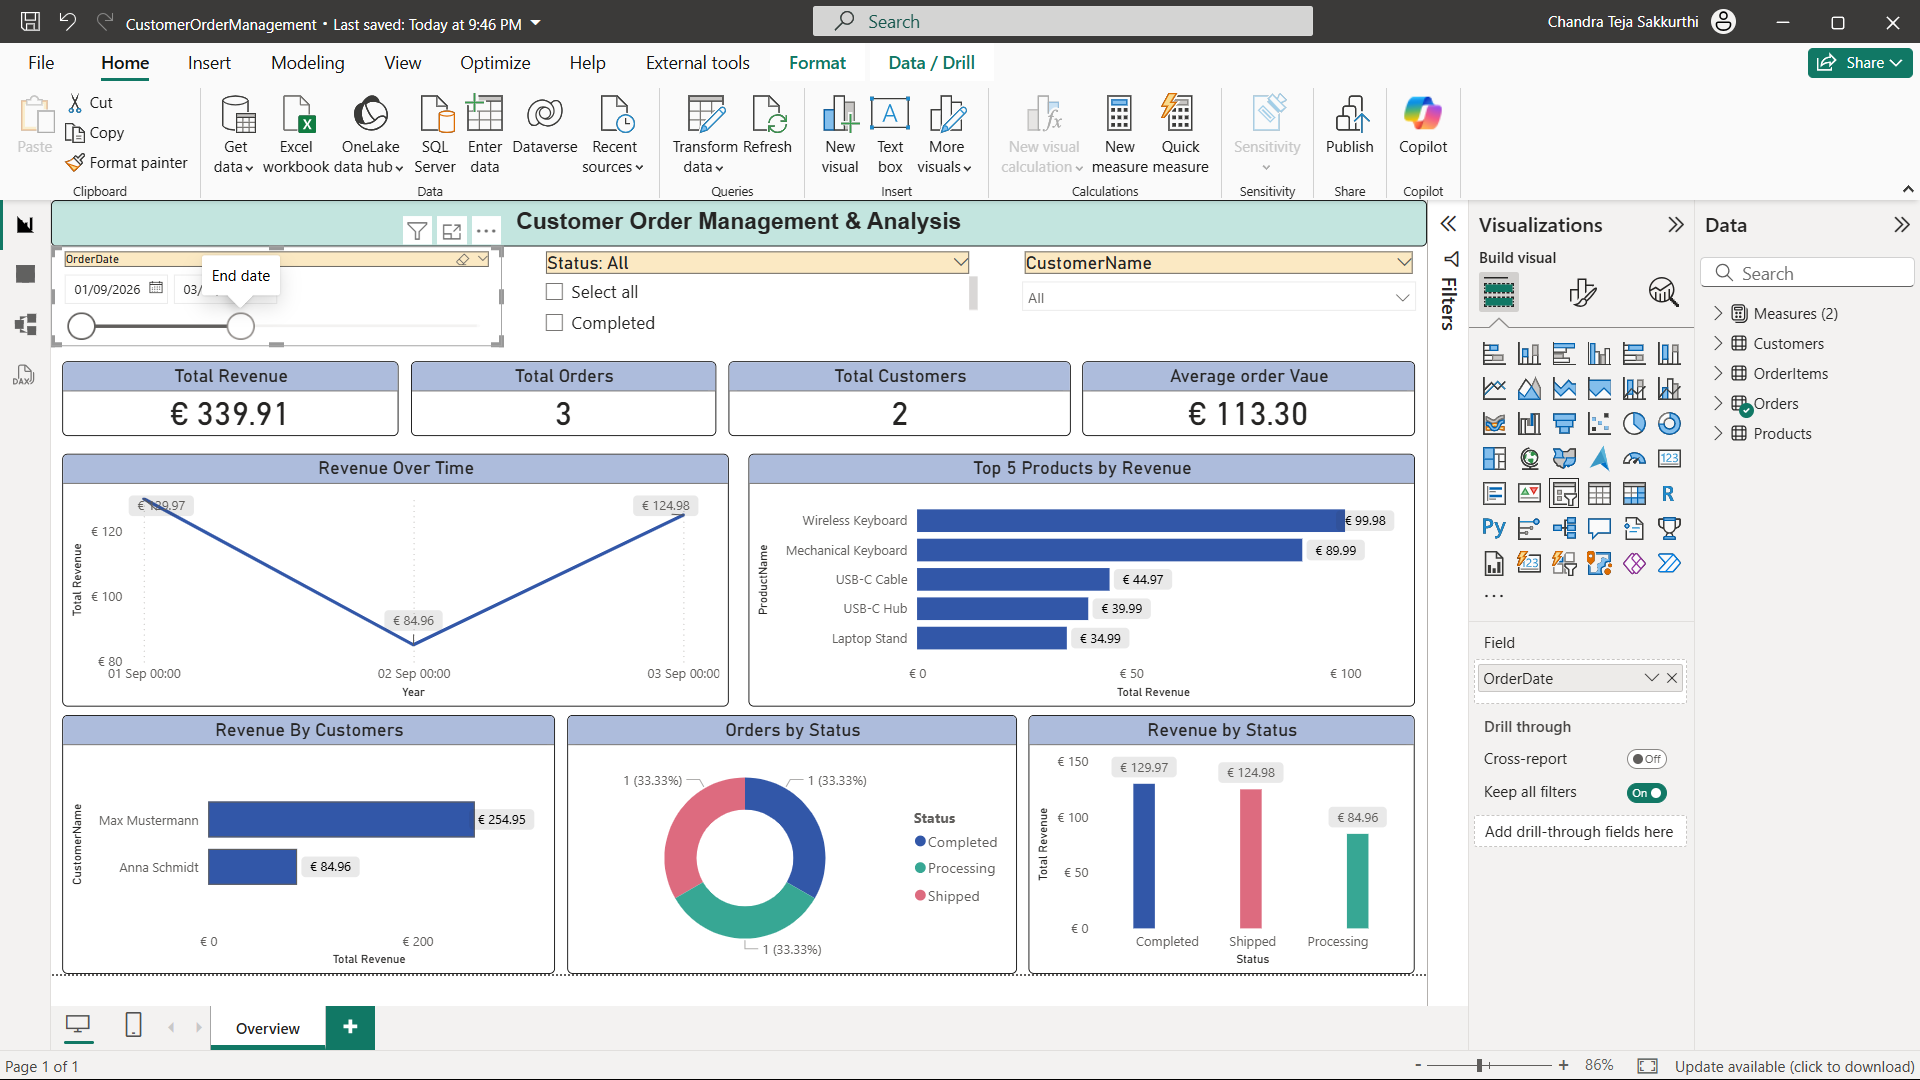

What the dashboard file says about the page in this screenshot:
{"tool":"powerbi","page":{"name":"Overview","canvas":[1280,720],"ordinal":0},"visuals":[{"type":"card","title":"Total Revenue","fields":{"Values":["Measures (2).Total Revenue"]},"box":[10.5,160.5,312.8,59.3],"z":0},{"type":"card","title":"Total Orders","fields":{"Values":["Measures (2).Total Orders"]},"box":[334.9,160.5,283.7,59.3],"z":1000},{"type":"card","title":"Total Customers","fields":{"Values":["Measures (2).Total Customers"]},"box":[630.2,160.5,318.6,59.3],"z":2000},{"type":"card","title":"Average order Vaue","fields":{"Values":["Measures (2).Average Order Value"]},"box":[959.3,160.5,309.3,59.3],"z":3000},{"type":"lineChart","title":"Revenue Over Time","fields":{"Y":["Measures (2).Total Revenue"],"Category":["Orders.OrderDate.Variation.Date Hierarchy.Year","Orders.OrderDate.Variation.Date Hierarchy.Quarter","Orders.OrderDate.Variation.Date Hierarchy.Month","Orders.OrderDate.Variation.Date Hierarchy.Day"]},"box":[10.5,236,619.8,234.9],"z":4000},{"type":"clusteredBarChart","title":"Revenue By Customers","fields":{"Category":["Customers.CustomerName"],"Y":["Measures (2).Total Revenue"],"Series":["Customers.CustomerID"]},"box":[10.5,479.1,458.1,240.7],"z":5000},{"type":"barChart","title":"Top 5 Products by Revenue","fields":{"Category":["Products.ProductName"],"Y":["Measures (2).Total Revenue"],"Series":["Products.ProductName"]},"box":[648.8,236,619.8,234.9],"z":6000},{"type":"slicer","title":"Date","fields":{"Values":["Orders.OrderDate"]},"box":[0,42.5,419.9,93.3],"z":7000},{"type":"slicer","fields":{"Values":["Orders.Status"]},"box":[447.7,43,419.8,93],"z":8000},{"type":"slicer","fields":{"Values":["Customers.CustomerName"]},"box":[893.3,42.5,387,93.3],"z":9000},{"type":"textbox","box":[0,0,1279.9,43],"z":10000},{"type":"clusteredColumnChart","title":"Revenue by Status","fields":{"Category":["Orders.Status"],"Y":["Measures (2).Total Revenue"],"Series":["Orders.Status"]},"box":[909.3,479.1,359.3,240.7],"z":11000},{"type":"donutChart","title":"Orders by Status","fields":{"Category":["Orders.Status"],"Y":["Measures (2).Total Orders by Product"]},"box":[480.2,479.1,418.6,240.7],"z":12000}]}

Visuals, with their boxes on the page's 1280x720 design canvas (x1, y1, x2, y2). These are canvas units, not pixel positions in the 1920x1080 screenshot, which may show the page scaled, cropped or inside an application window:
"Total Revenue" card: [10, 160, 323, 220]
"Total Orders" card: [335, 160, 619, 220]
"Total Customers" card: [630, 160, 949, 220]
"Average order Vaue" card: [959, 160, 1269, 220]
"Revenue Over Time" lineChart: [10, 236, 630, 471]
"Revenue By Customers" clusteredBarChart: [10, 479, 469, 720]
"Top 5 Products by Revenue" barChart: [649, 236, 1269, 471]
"Date" slicer: [0, 42, 420, 136]
slicer - Orders.Status: [448, 43, 868, 136]
slicer - Customers.CustomerName: [893, 42, 1280, 136]
textbox: [0, 0, 1280, 43]
"Revenue by Status" clusteredColumnChart: [909, 479, 1269, 720]
"Orders by Status" donutChart: [480, 479, 899, 720]
